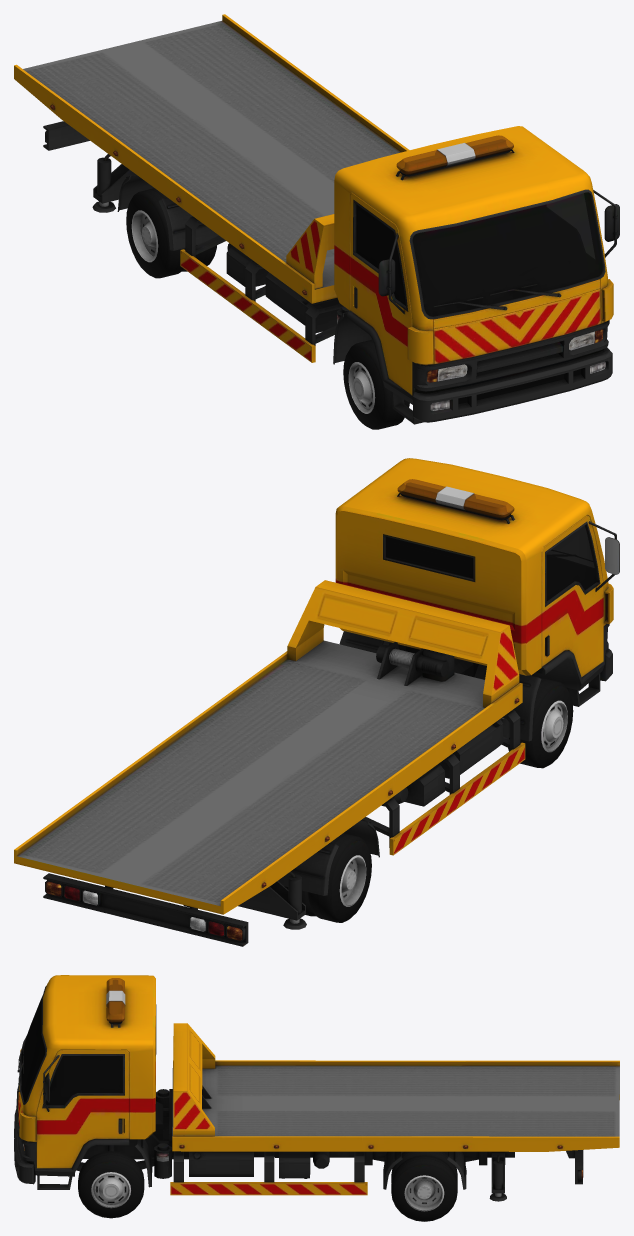
Rendered from towtruck.glb.
3 renders of one model, top to bottom at view 1: azimuth 30°, elevation 25°; view 2: azimuth 150°, elevation 25°; view 3: azimuth 270°, elevation 25°, orthographic. The views are drawn at different scales.
Visible parts, largest first — view 1: body_0, body_1, wheel_2, wheel_1, body_3, body_2; view 2: body_0, body_1, wheel_2, wheel_1, body_3, body_2; view 3: body_0, body_1, wheel_0, wheel_3, body_2.
Part boxes in pixels (left/top/right/bottom): body_0: left=14, top=14, right=619, bottom=424; body_1: left=356, top=192, right=602, bottom=316; wheel_2: left=126, top=188, right=216, bottom=278; wheel_1: left=343, top=339, right=409, bottom=429; body_3: left=50, top=105, right=605, bottom=410; body_2: left=396, top=135, right=513, bottom=174; body_0: left=14, top=458, right=619, bottom=946; body_1: left=386, top=526, right=596, bottom=601; wheel_2: left=284, top=833, right=371, bottom=922; wheel_1: left=508, top=677, right=573, bottom=768; body_3: left=46, top=486, right=519, bottom=940; body_2: left=397, top=479, right=514, bottom=518; body_0: left=14, top=975, right=619, bottom=1201; body_1: left=21, top=998, right=122, bottom=1105; wheel_0: left=391, top=1151, right=457, bottom=1221; wheel_3: left=78, top=1151, right=144, bottom=1218; body_2: left=106, top=978, right=124, bottom=1022.
Bounding box in the file's own units: 2.38 × 2.39 × 6.94.
4 materials, 4 textured.
